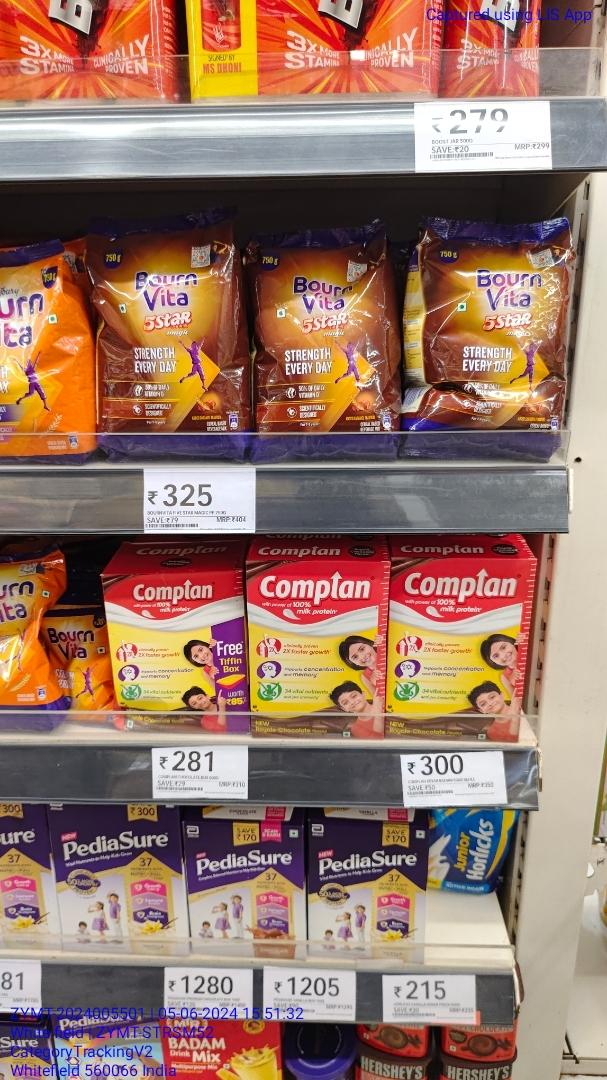BOURN_VITA_FIVE_STAR_MAGIC_750_G_POUCH: (88, 210, 248, 437), (422, 212, 571, 454), (254, 227, 396, 436)
COMPLAN_CHOCOLATE_500_GMS_PACK: (389, 555, 522, 742), (112, 576, 254, 735), (256, 565, 384, 737)
PEDIASURE_CHOCOLATE_500_G_PACK: (185, 822, 310, 964)
PEDIASURE_VANILLA_500_G_PACK: (55, 805, 184, 957), (308, 816, 419, 963)
